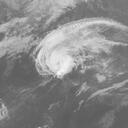cyclone: (36, 24, 80, 77)
